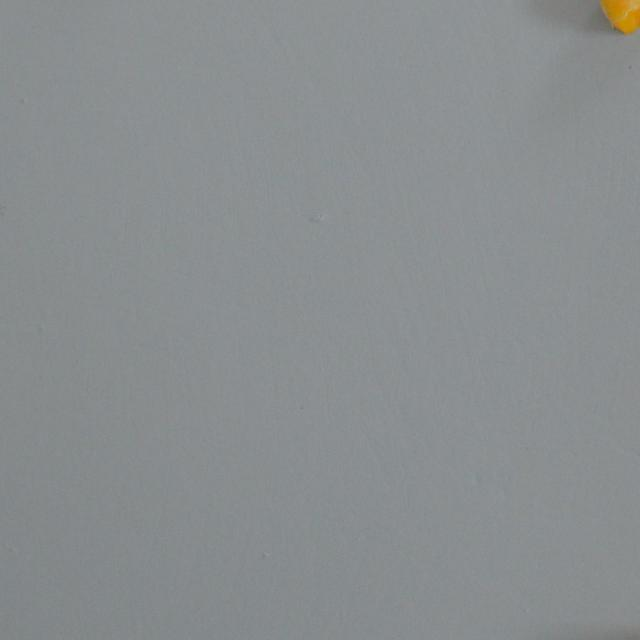pelicula: (596, 0, 640, 51)
